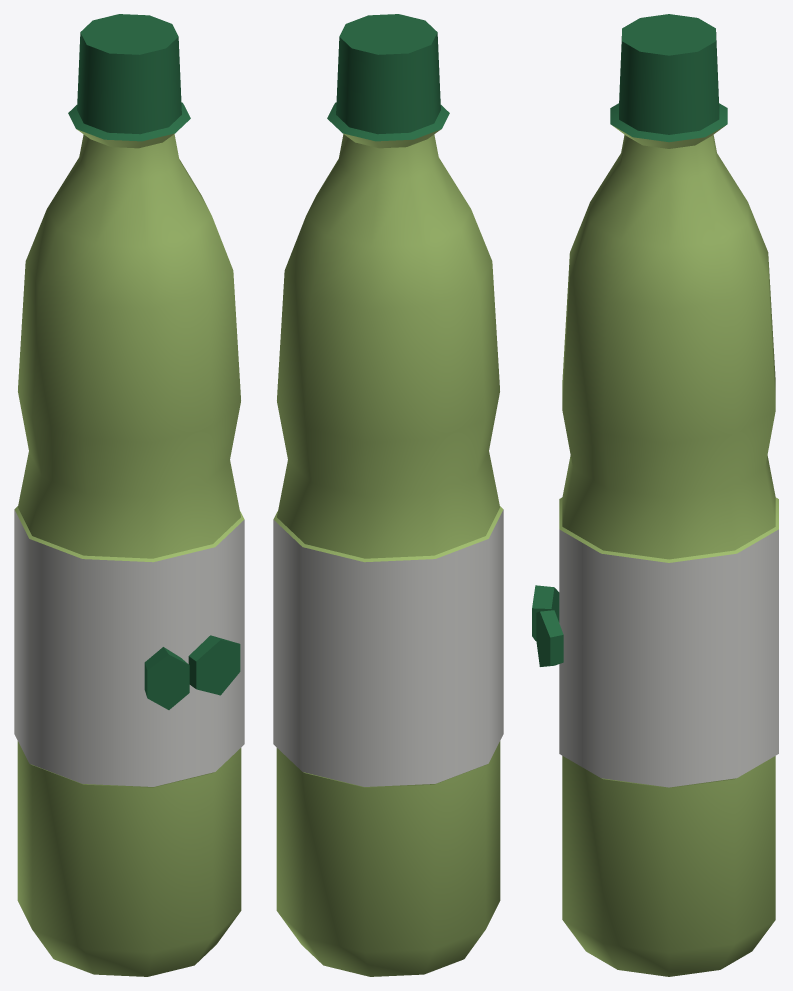
File: hh_tra_xanh.glb
3 views of the same model, side by side, from view 1: azimuth 30°, elevation 25°; view 2: azimuth 150°, elevation 25°; view 3: azimuth 270°, elevation 25° (orthographic).
Visible parts, largest first — view 1: hh_tra_xanh; view 2: hh_tra_xanh; view 3: hh_tra_xanh.
Boxes of the visible parts, bbox=[...] form: hh_tra_xanh: bbox=[14, 14, 244, 976]; hh_tra_xanh: bbox=[273, 14, 503, 976]; hh_tra_xanh: bbox=[532, 14, 778, 976].
Size of the model in its own units: 0.0602 by 0.2604 by 0.0644.
